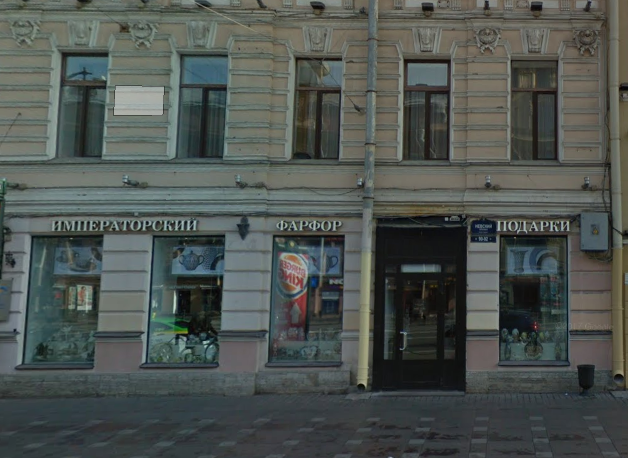door: (398, 274, 446, 391)
signboard: (48, 212, 205, 236), (495, 216, 573, 233), (273, 216, 341, 232)
window: (142, 233, 224, 368), (22, 237, 100, 369), (265, 235, 341, 369), (499, 235, 570, 366), (52, 56, 106, 160), (512, 58, 560, 161), (405, 59, 448, 162), (180, 56, 223, 159), (297, 59, 339, 159)
